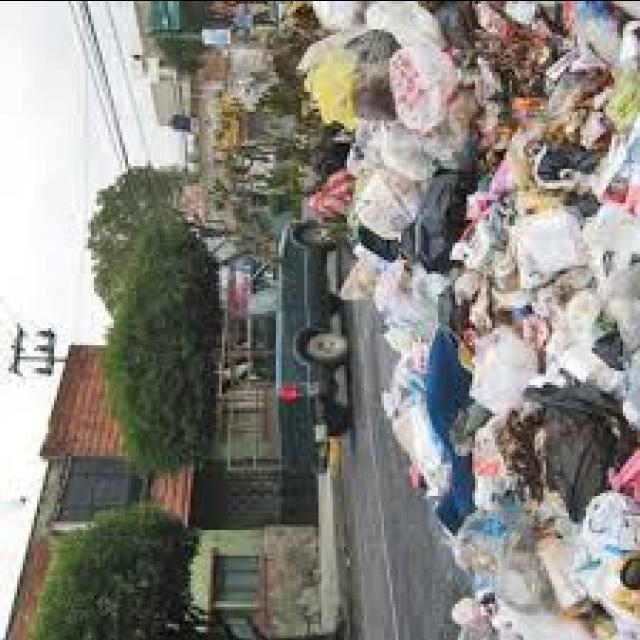garbage: (256, 0, 640, 640)
